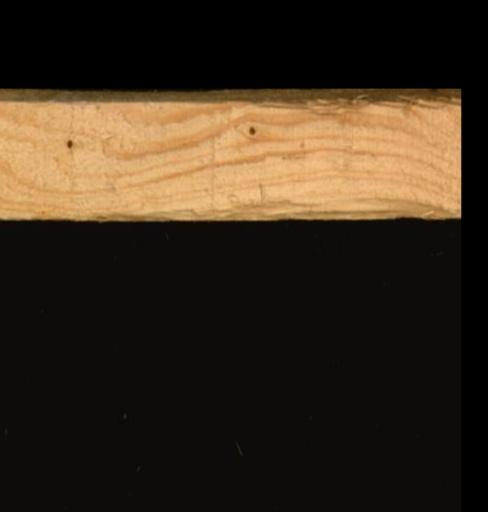small_knot: (246, 124, 256, 137), (64, 137, 74, 150)
